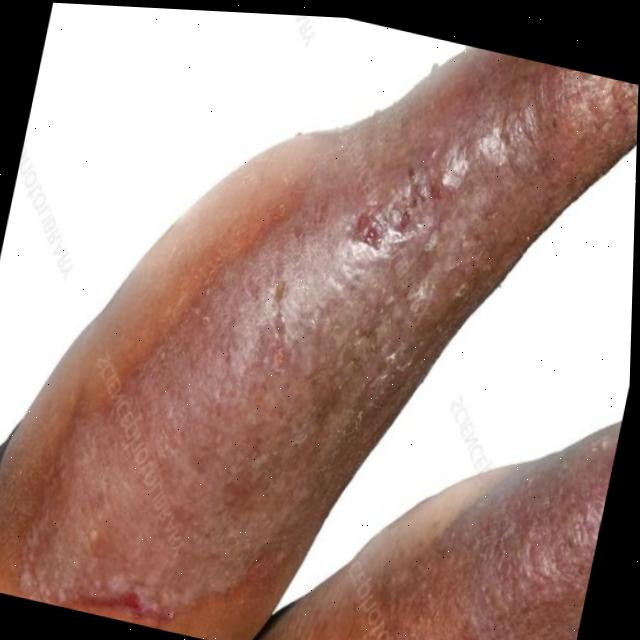Eczema: (19, 24, 526, 640), (428, 460, 606, 640), (566, 70, 639, 136)
